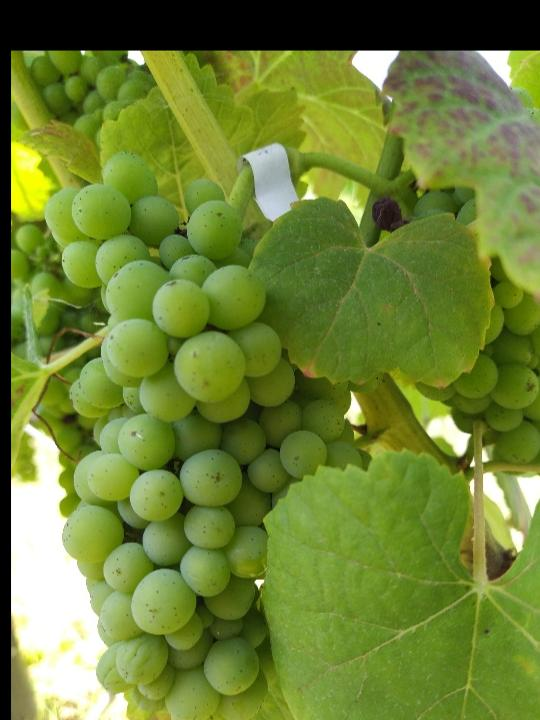grape: (42, 149, 382, 720)
